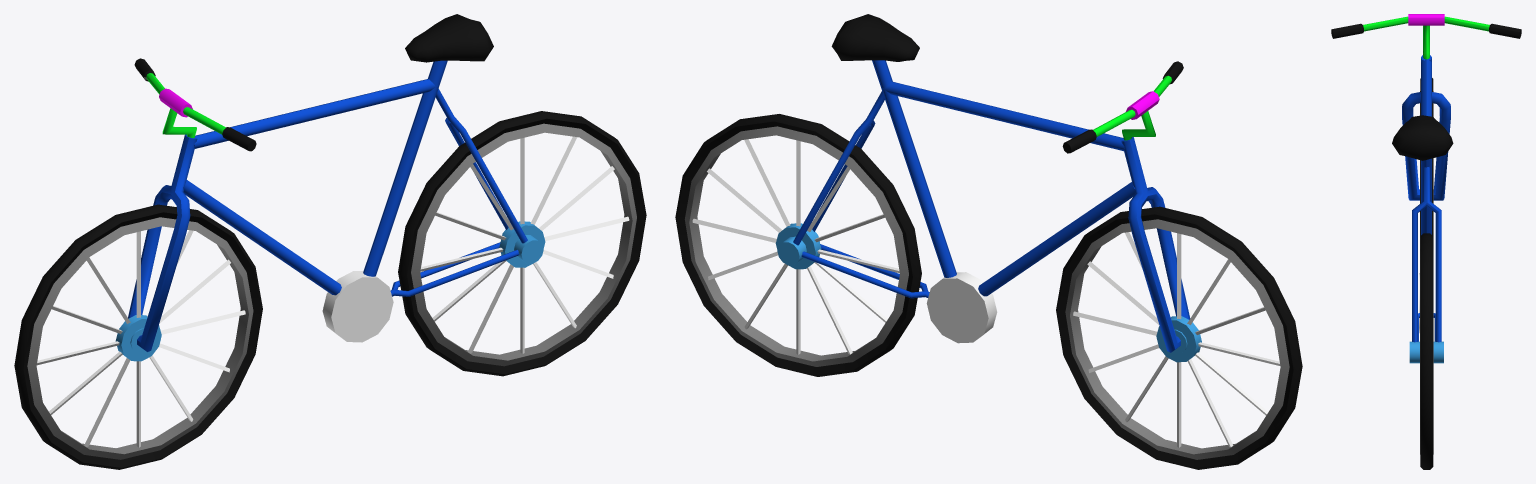
Rendered from Bike_01.fbx.
The picture shows the model from 3 angles, left to right: view 1: azimuth 30°, elevation 25°; view 2: azimuth 150°, elevation 25°; view 3: azimuth 270°, elevation 25°; orthographic projection. The views are drawn at different scales.
Visible parts, largest first — view 1: Cylinder005; view 2: Cylinder005; view 3: Cylinder005.
Part boxes in pixels (x1=…): Cylinder005: x1=14, y1=14, x2=646, y2=469; Cylinder005: x1=675, y1=14, x2=1302, y2=469; Cylinder005: x1=1331, y1=14, x2=1521, y2=469.
Size of the model in its own units: 222 by 123 by 69.44.
